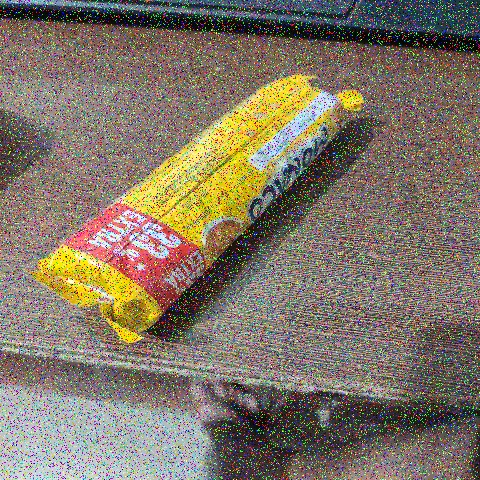monaco: (41, 35, 356, 366)
